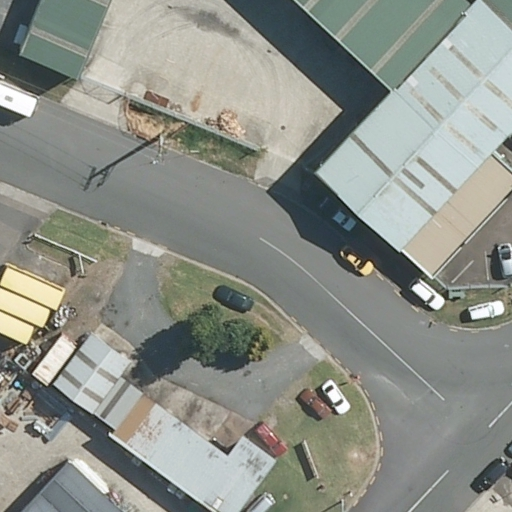DT: (150, 132, 170, 165)
